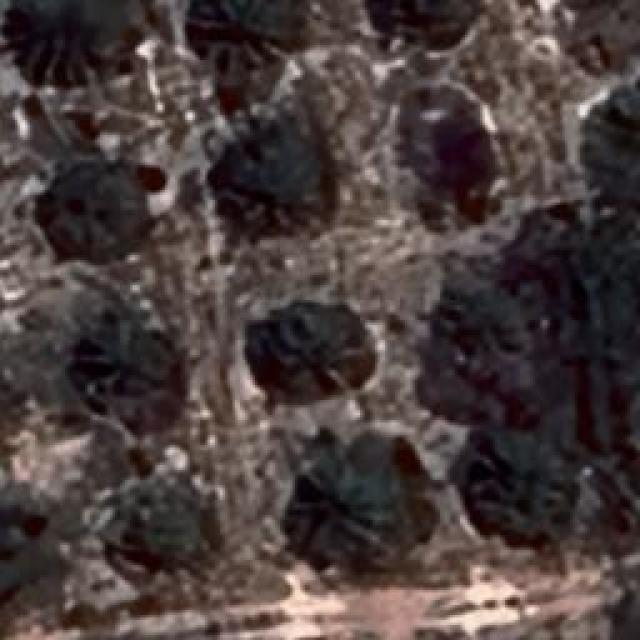PalmTree: (22, 85, 88, 540), (88, 20, 420, 85), (70, 311, 175, 411), (454, 278, 544, 392), (282, 462, 388, 558), (216, 126, 314, 216), (482, 446, 562, 554), (10, 0, 108, 85), (51, 162, 141, 245), (275, 312, 370, 390), (121, 490, 206, 572), (195, 0, 282, 62), (555, 0, 640, 61), (587, 95, 640, 190), (0, 354, 25, 448), (0, 358, 16, 444)
